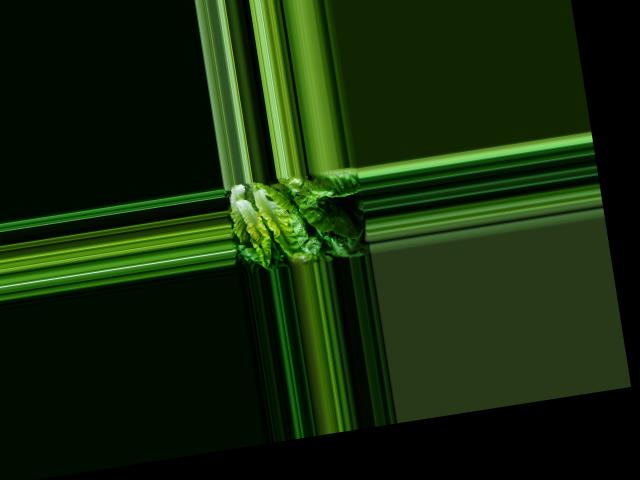lettuce: (225, 172, 324, 269)
